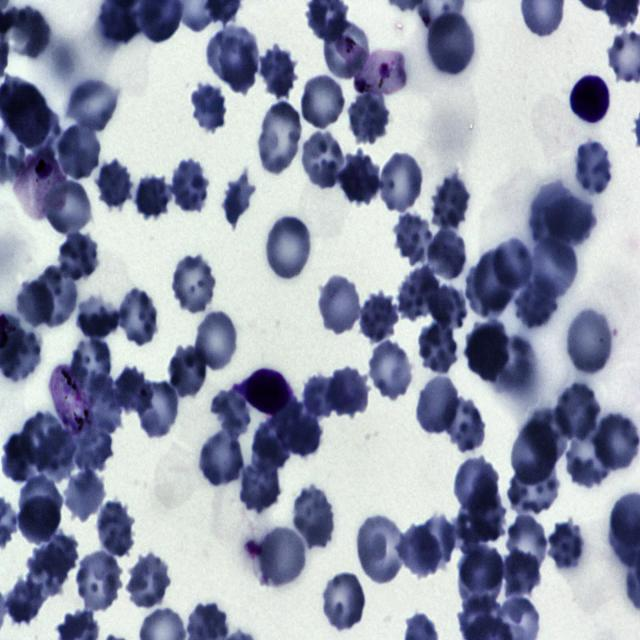leukocyte: (242, 368, 293, 418), (569, 74, 612, 127)
red blood cell: (256, 99, 304, 177), (262, 213, 314, 283), (528, 233, 579, 302), (564, 308, 614, 377), (509, 419, 559, 488), (208, 27, 259, 94), (466, 251, 516, 319), (269, 398, 324, 459), (426, 11, 476, 78), (256, 526, 308, 590), (355, 517, 406, 582), (28, 533, 79, 597), (65, 76, 120, 134), (74, 550, 123, 614), (322, 18, 371, 82), (32, 264, 80, 329), (169, 252, 219, 314), (378, 150, 426, 214), (464, 320, 512, 384), (298, 129, 348, 190), (192, 309, 240, 372), (452, 456, 502, 516), (367, 339, 415, 401), (525, 406, 573, 468), (530, 182, 574, 249), (320, 571, 368, 632), (197, 428, 246, 487), (292, 485, 336, 550), (555, 381, 601, 443), (298, 73, 348, 130), (504, 515, 549, 578), (513, 271, 560, 331), (458, 545, 504, 606), (540, 195, 596, 245), (398, 522, 447, 579), (566, 430, 615, 487), (507, 463, 560, 515), (416, 374, 460, 436), (5, 4, 52, 62), (56, 123, 102, 182), (136, 380, 182, 439), (595, 414, 640, 473), (116, 288, 160, 348), (442, 397, 488, 454), (33, 426, 78, 482), (425, 227, 469, 284), (20, 411, 64, 468), (17, 474, 64, 527), (573, 139, 615, 198), (238, 457, 282, 513), (48, 182, 93, 236), (127, 555, 171, 610), (430, 174, 472, 231), (95, 501, 136, 559), (327, 364, 370, 419), (417, 512, 459, 568), (63, 469, 107, 522), (339, 151, 381, 206), (318, 276, 357, 335), (467, 486, 506, 545), (347, 92, 391, 144), (357, 292, 400, 345), (71, 337, 110, 395), (3, 577, 48, 627), (89, 371, 124, 434), (170, 160, 210, 215), (56, 232, 100, 282), (500, 550, 543, 601), (166, 346, 208, 398), (398, 269, 440, 321), (74, 292, 119, 340), (251, 422, 291, 476), (417, 322, 458, 374), (16, 498, 61, 545), (95, 157, 134, 211), (492, 240, 534, 290), (394, 211, 432, 266), (221, 171, 256, 230), (132, 172, 172, 222), (429, 280, 469, 330), (258, 45, 296, 97), (1, 432, 38, 485), (301, 374, 341, 422), (188, 83, 227, 132), (113, 366, 152, 414), (211, 390, 251, 436), (74, 428, 114, 473), (15, 280, 52, 328), (549, 522, 585, 568)
trophozoite: (337, 32, 407, 96), (13, 151, 67, 220), (50, 364, 94, 436)
